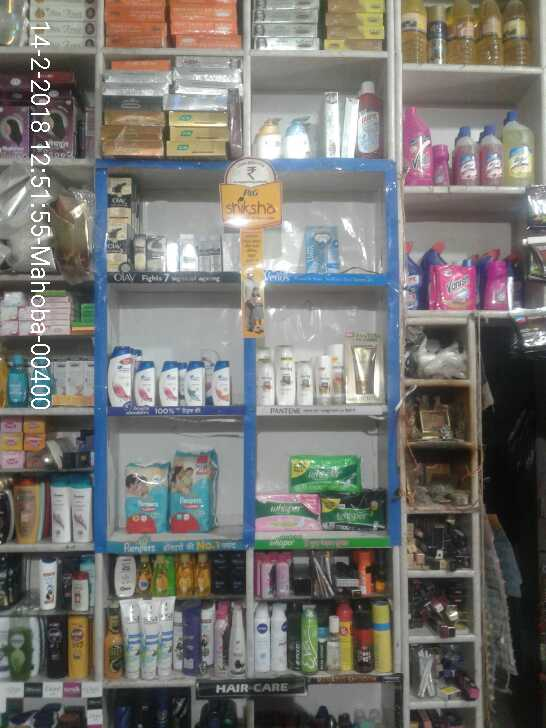venus: (307, 224, 342, 274)
